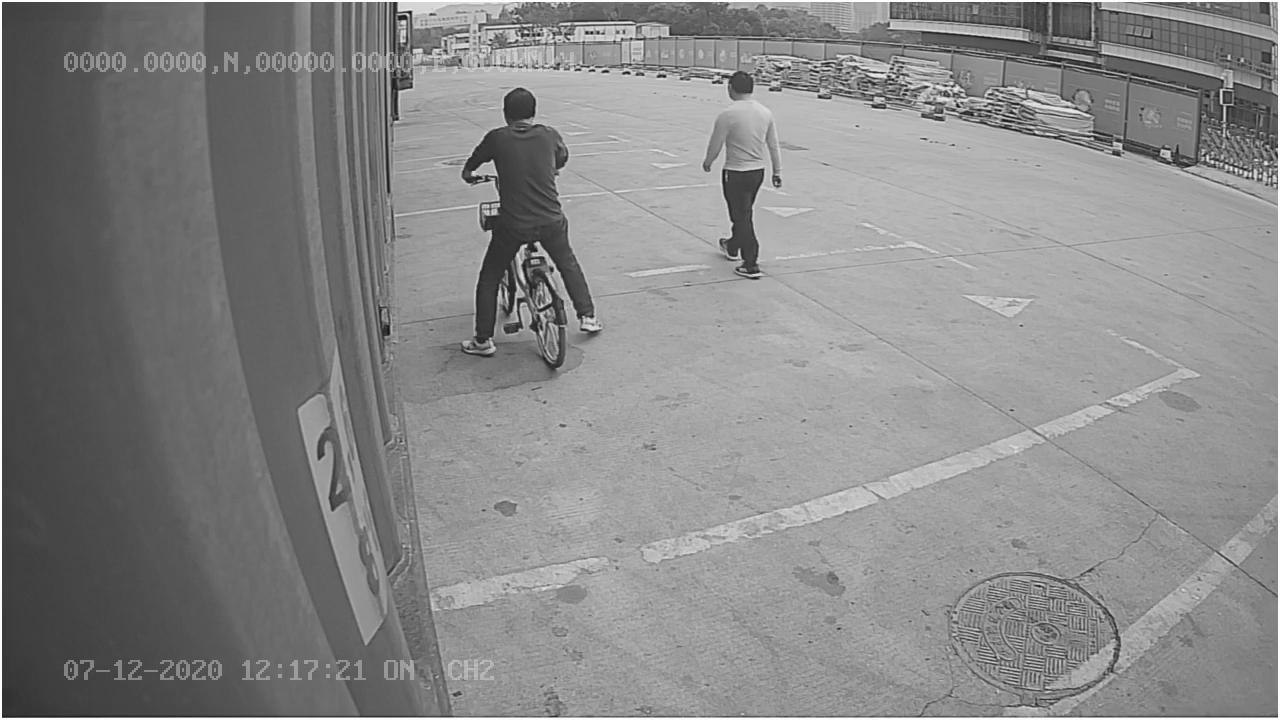person: (697, 63, 795, 284)
